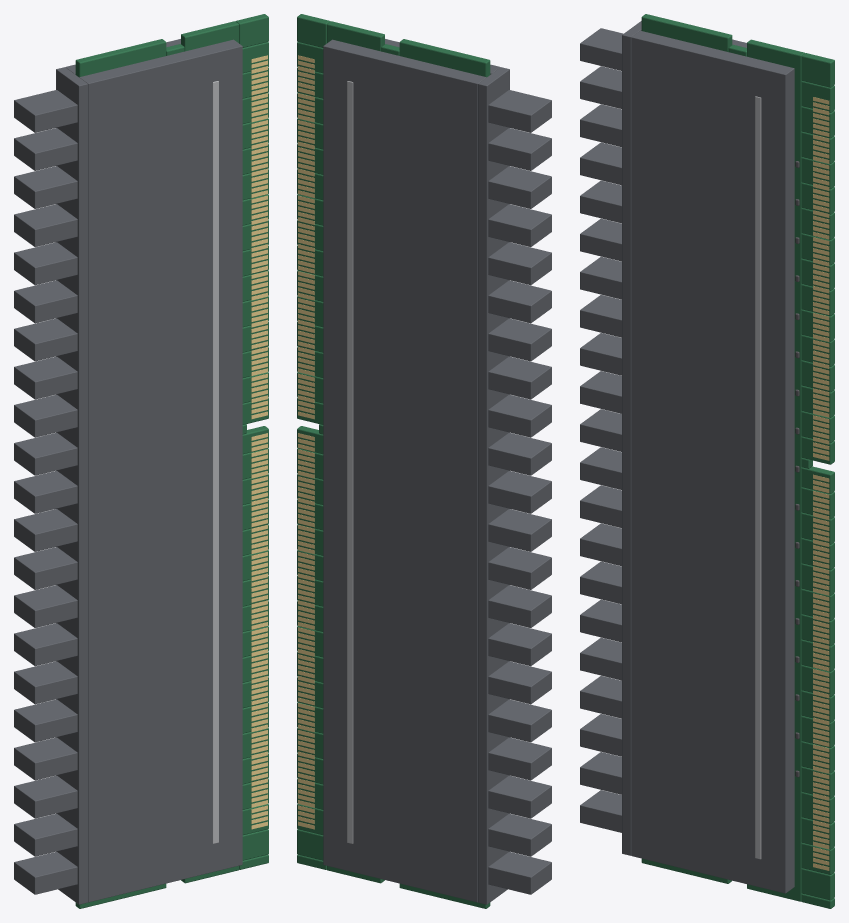
Rendered from RAM_DDR5.glb.
3 renders of one model, left to right at view 1: azimuth 30°, elevation 25°; view 2: azimuth 150°, elevation 25°; view 3: azimuth 330°, elevation 25°, orthographic.
Parts seen in each view (by area): view 1: RAM_DDR5_Heatspreader, RAM_DDR5_PCB, RAM_DDR5_Contacts; view 2: RAM_DDR5_Heatspreader, RAM_DDR5_PCB, RAM_DDR5_Contacts; view 3: RAM_DDR5_Heatspreader, RAM_DDR5_PCB, RAM_DDR5_Contacts.
Part boxes in pixels (x1,y1,x2,y2): RAM_DDR5_Heatspreader: (14,39,242,904); RAM_DDR5_PCB: (75,14,268,908); RAM_DDR5_Contacts: (251,55,267,829); RAM_DDR5_Heatspreader: (323,39,551,904); RAM_DDR5_PCB: (297,14,490,908); RAM_DDR5_Contacts: (298,55,314,829); RAM_DDR5_Heatspreader: (580,21,794,893); RAM_DDR5_PCB: (641,14,834,908); RAM_DDR5_Contacts: (813,97,829,870).
Size of the model in its own units: 0.04 by 0.1334 by 0.0069.
